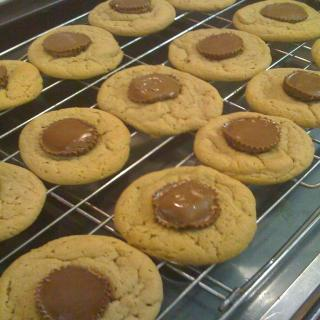Cookie: (116, 164, 261, 268), (0, 234, 164, 320), (94, 65, 226, 139), (192, 110, 314, 188), (19, 106, 132, 186), (167, 26, 274, 82), (27, 24, 124, 79), (245, 68, 320, 129), (231, 0, 320, 42), (0, 162, 47, 240), (84, 0, 178, 37), (0, 61, 44, 110), (167, 0, 235, 13)
